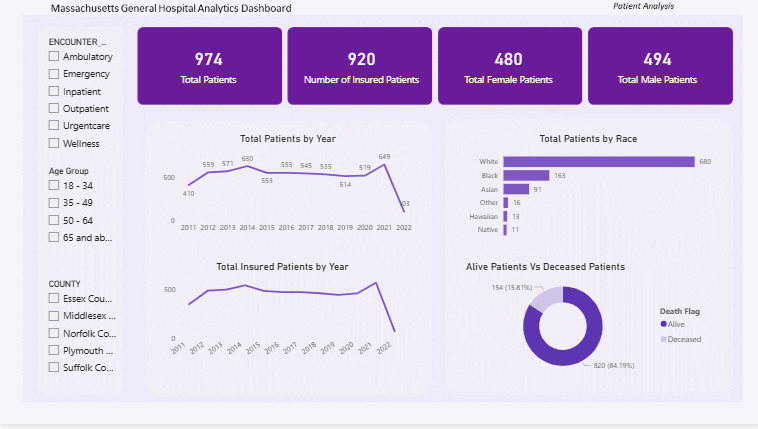

The page's visual inventory and layout, read from the dashboard file:
{"tool":"powerbi","page":{"name":"PATIENTS","canvas":[1280,720],"ordinal":0},"visuals":[{"type":"card","fields":{"Values":["patients.Total Patients"]},"box":[238.5,65.5,223.4,102.5],"z":0},{"type":"card","fields":{"Values":["patients.Number of Insured Patients"]},"box":[495.5,65.5,223.4,102.5],"z":1000},{"type":"card","fields":{"Values":["patients.Total Female Patients"]},"box":[742.5,65.5,223.4,102.5],"z":2000},{"type":"card","fields":{"Values":["patients.Total Male Patients"]},"box":[1009.6,65.5,189.8,102.5],"z":3000},{"type":"lineChart","title":"Total Patients by Year","fields":{"Category":["encounters.ENCOUNTER_START.Variation.Date Hierarchy.Year"],"Y":["Count(encounters.PATIENT_ID)"]},"box":[268.8,230.1,430,178.1],"z":4000},{"type":"lineChart","title":"Total  Insured Patients by Year","fields":{"Category":["encounters.ENCOUNTER_START.Variation.Date Hierarchy.Year"],"Y":["patients.Number of Insured Patients"]},"box":[268.8,445.1,411.5,179.7],"z":5000},{"type":"donutChart","title":"Alive Patients Vs Deceased Patients","fields":{"Category":["patients.Death Flag"],"Y":["CountNonNull(patients.Death Flag)"]},"box":[777.7,445.1,421.6,203.3],"z":6000},{"type":"clusteredBarChart","title":"Total Patients by Race","fields":{"Category":["patients.RACE"],"Y":["CountNonNull(patients.RACE)"]},"box":[777.7,230.1,421.6,188.1],"z":7000},{"type":"slicer","fields":{"Values":["encounters.ENCOUNTER_CLASS"]},"box":[68.9,65.5,132.7,204.9],"z":8000},{"type":"slicer","fields":{"Values":["patients.Age Group"]},"box":[68.9,282.2,131,152.9],"z":9000},{"type":"slicer","fields":{"Values":["patients.COUNTY"]},"box":[68.9,472,131,176.4],"z":10000}]}

Visuals, with their boxes in screenshot pixels (x1, y1, x2, y2), scaled from the page's 1280x720 canvas onto the 758x429 screenshot:
card - patients.Total Patients: bbox=[141, 39, 274, 100]
card - patients.Number of Insured Patients: bbox=[293, 39, 426, 100]
card - patients.Total Female Patients: bbox=[440, 39, 572, 100]
card - patients.Total Male Patients: bbox=[598, 39, 710, 100]
"Total Patients by Year" lineChart: bbox=[159, 137, 414, 243]
"Total  Insured Patients by Year" lineChart: bbox=[159, 265, 403, 372]
"Alive Patients Vs Deceased Patients" donutChart: bbox=[461, 265, 710, 386]
"Total Patients by Race" clusteredBarChart: bbox=[461, 137, 710, 249]
slicer - encounters.ENCOUNTER_CLASS: bbox=[41, 39, 119, 161]
slicer - patients.Age Group: bbox=[41, 168, 118, 259]
slicer - patients.COUNTY: bbox=[41, 281, 118, 386]
